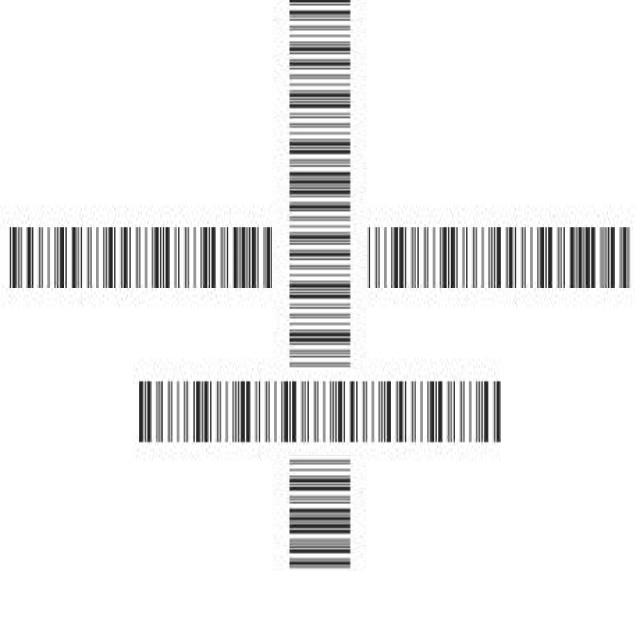Barkod: (139, 77, 500, 438), (134, 370, 506, 455)
